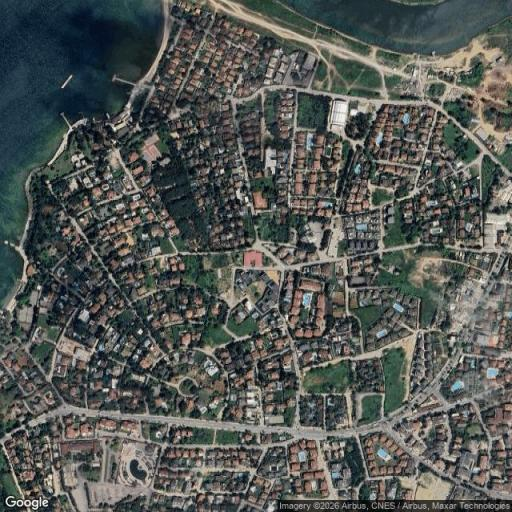ship: (54, 61, 78, 92)
